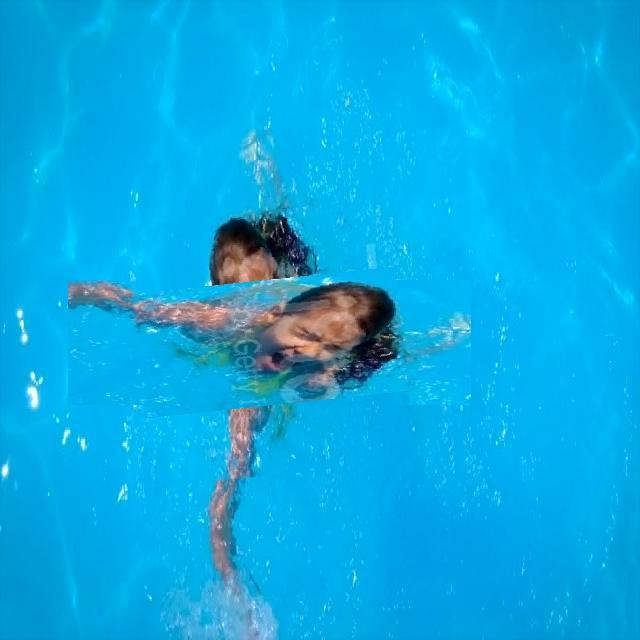Out of Water: (130, 204, 408, 482)
